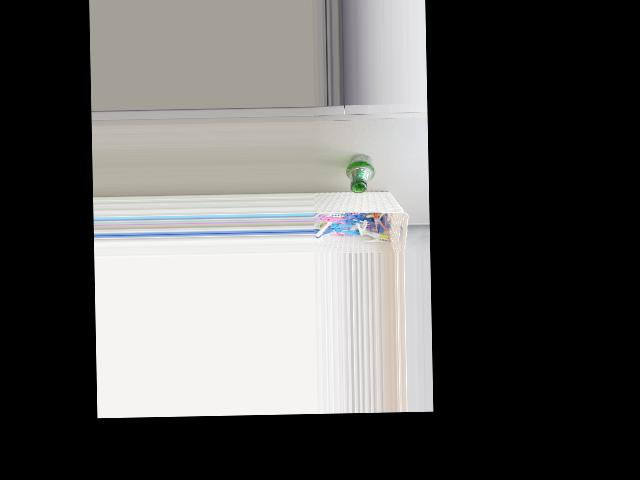beer: (345, 153, 375, 193)
